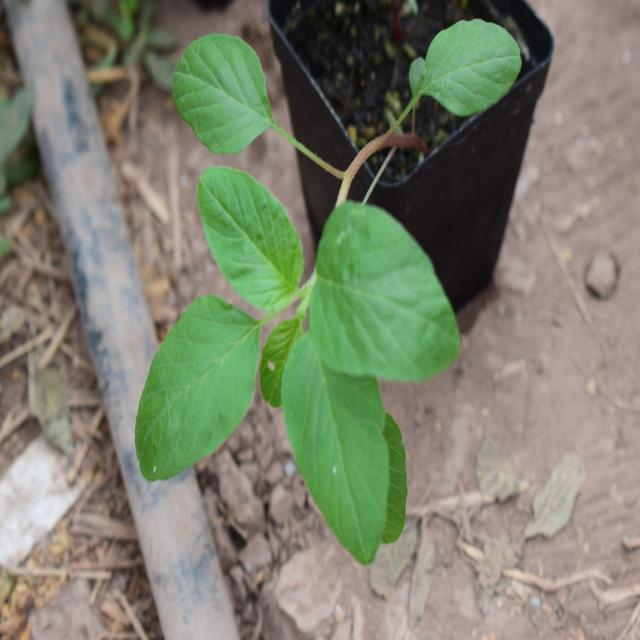pigweed: (135, 44, 451, 578)
